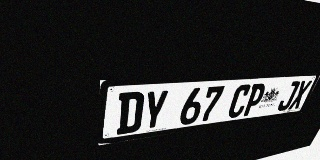6: (178, 87, 206, 126)
7: (197, 86, 225, 123)
C: (226, 84, 253, 119)
D: (116, 91, 145, 135)
J: (276, 81, 301, 111)
P: (241, 83, 268, 117)
X: (288, 80, 313, 110)
Y: (141, 90, 169, 131)
